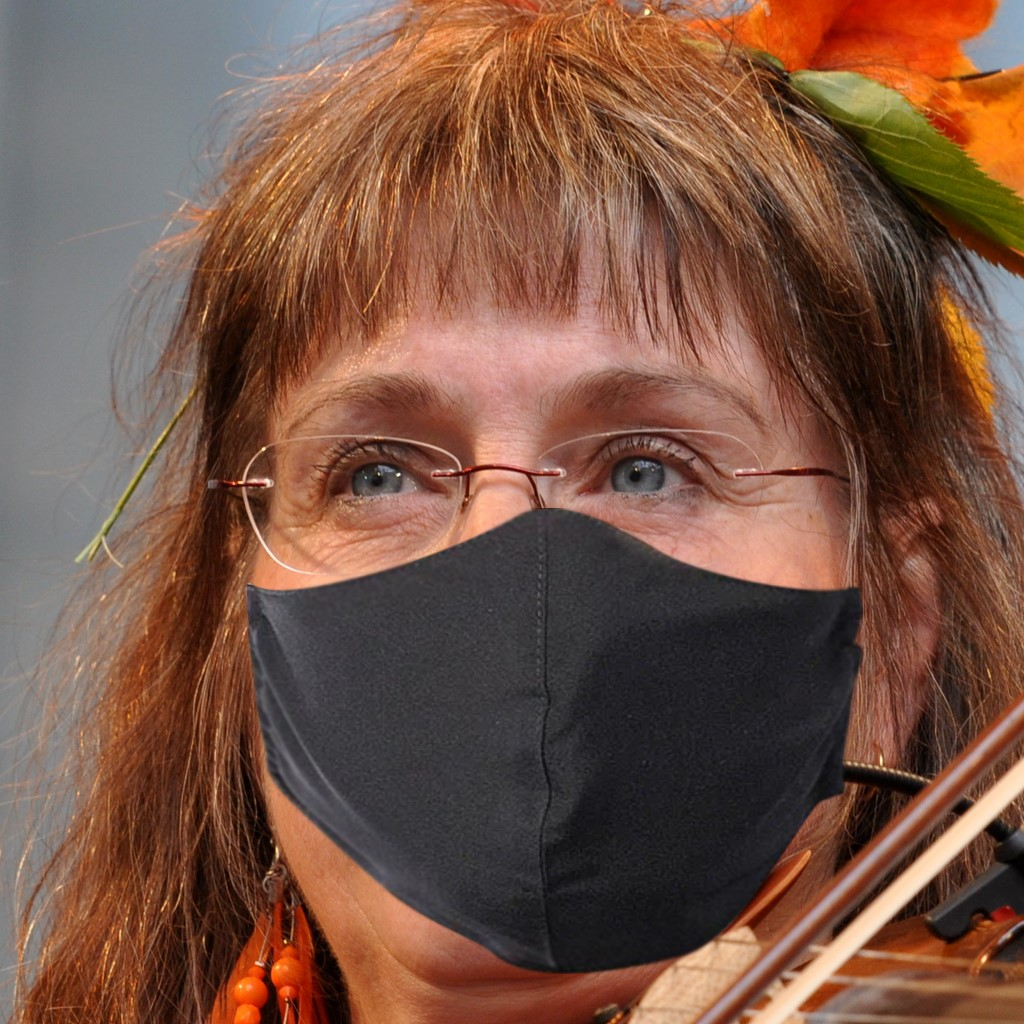con_mascara: (218, 156, 873, 946)
